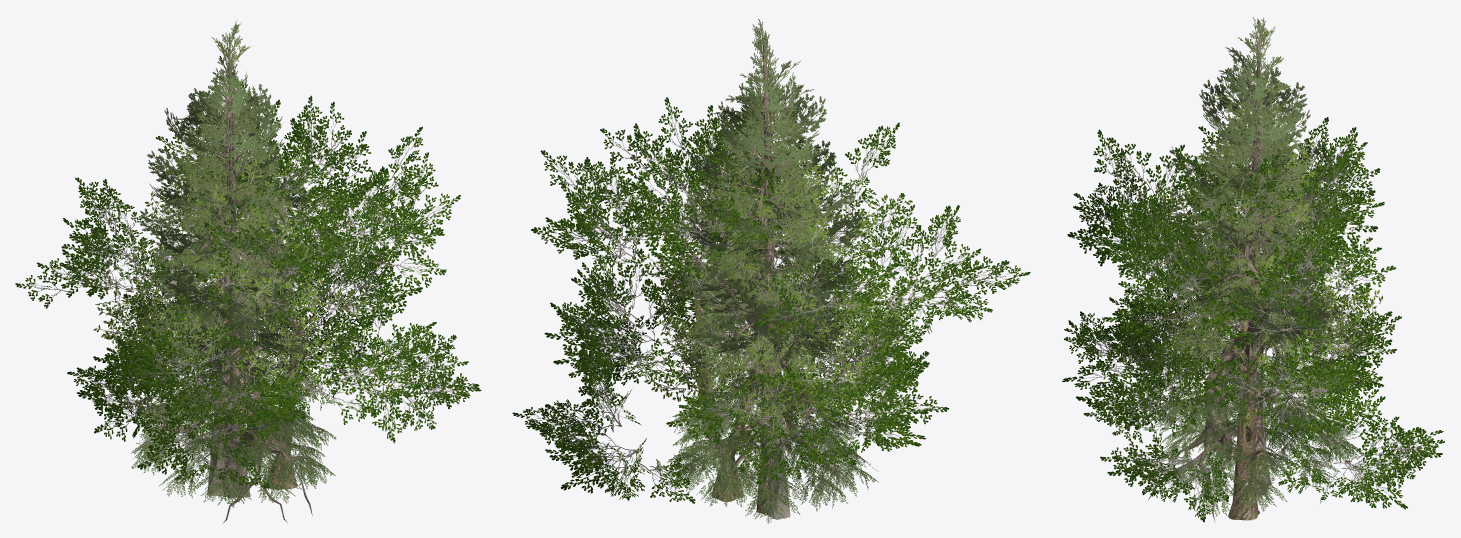
Rendered from trees.glb.
The picture shows the model from 3 angles, left to right: view 1: azimuth 30°, elevation 25°; view 2: azimuth 150°, elevation 25°; view 3: azimuth 270°, elevation 25°; orthographic projection. The views are drawn at different scales.
Visible parts, largest first — view 1: oak leaf_1, Tree_1 (×3), spruce branch_1, Tree_0 (×3), bark08_0, mossybark02_0, Tree_2; view 2: oak leaf_1, Tree_1 (×3), spruce branch_1, Tree_0 (×3), mossybark02_0, Tree_2, bark08_0; view 3: oak leaf_1, Tree_1 (×3), spruce branch_1, Tree_0 (×3), mossybark02_0, Tree_2, bark08_0.
Part boxes in pixels (left/top/right/bottom): oak leaf_1: left=15, top=72, right=481, bottom=488; Tree_1 (×3): left=87, top=68, right=366, bottom=507; spruce branch_1: left=161, top=19, right=297, bottom=362; Tree_0 (×3): left=128, top=110, right=336, bottom=523; bark08_0: left=204, top=40, right=257, bottom=498; mossybark02_0: left=125, top=216, right=390, bottom=489; Tree_2: left=135, top=133, right=355, bottom=466; oak leaf_1: left=512, top=97, right=1030, bottom=503; Tree_1 (×3): left=640, top=68, right=926, bottom=523; spruce branch_1: left=694, top=18, right=847, bottom=381; Tree_0 (×3): left=663, top=113, right=868, bottom=519; mossybark02_0: left=613, top=200, right=913, bottom=501; Tree_2: left=639, top=156, right=894, bottom=471; bark08_0: left=740, top=44, right=796, bottom=505; oak leaf_1: left=1062, top=93, right=1444, bottom=522; Tree_1 (×3): left=1119, top=56, right=1387, bottom=516; spruce branch_1: left=1181, top=17, right=1323, bottom=364; Tree_0 (×3): left=1148, top=107, right=1347, bottom=522; mossybark02_0: left=1141, top=230, right=1351, bottom=520; Tree_2: left=1165, top=148, right=1349, bottom=398; bark08_0: left=1233, top=32, right=1287, bottom=483.
Bounding box in the file's own units: 8.83 × 9.5 × 6.87.
Materials: 14 (14 with a texture image).
